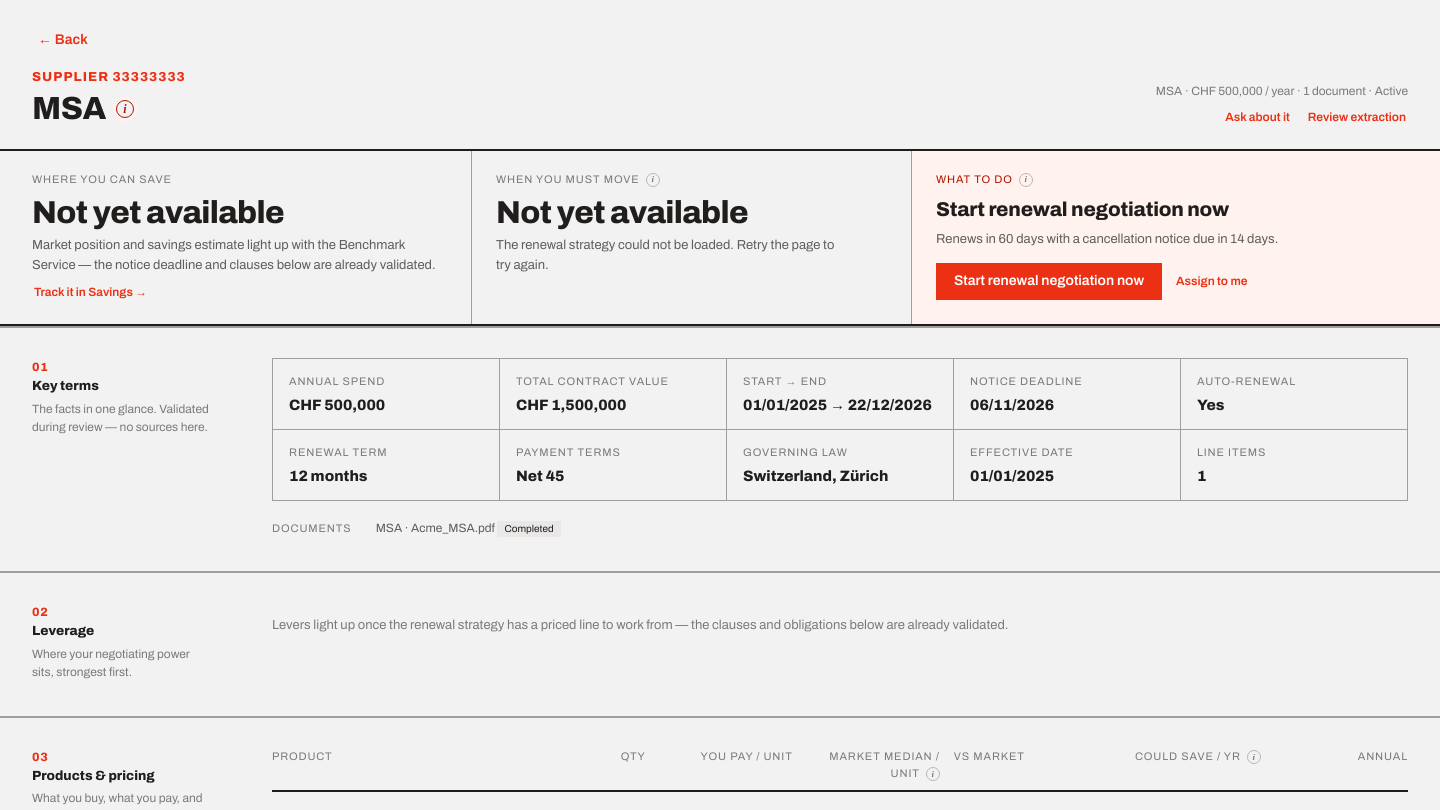
Test: Contract360Route (V2 no tabs, ADR-024 / screens-v2.md #5) › answers band › 'Start negotiation' posts the real action as the signed-in owner, then shows the tracker; steps tick and persist; 'Undo' re-posts Open
Expected: the heading "MSA" is shown, x1=32 y1=91 x2=106 y2=127
Click the button "Start renewal negotiation now": click(1049, 281) x1=936 y1=263 x2=1162 y2=300
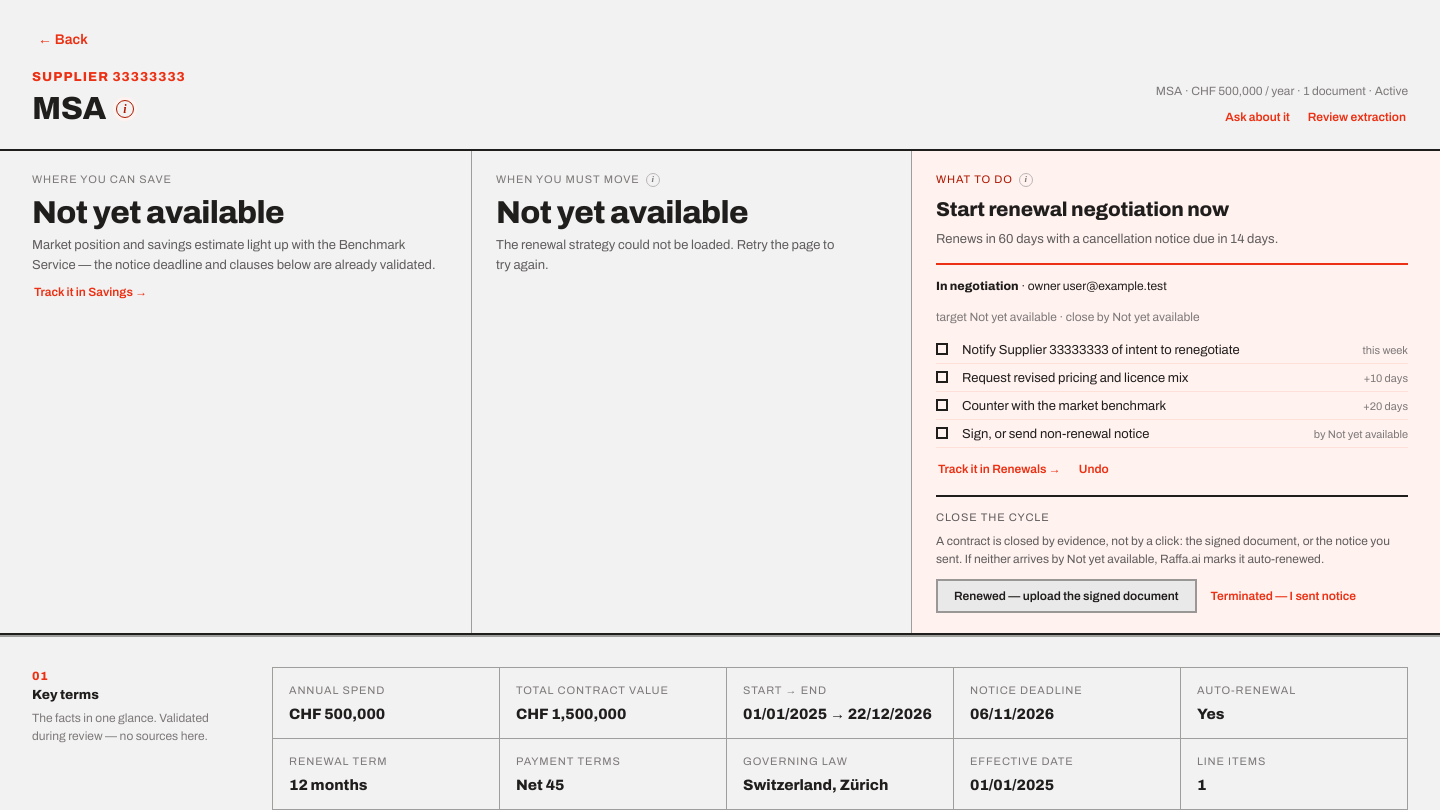
Now the message shows "In negotiation", box x1=936 y1=279 x2=1019 y2=293
Now the message shows "target Not yet available · close by Not yet available", box x1=936 y1=310 x2=1200 y2=324
Now the buttons read "Notify Supplier 33333333 of intent to renegotiatethis week", "Request revised pricing and licence mix+10 days", "Counter with the market benchmark+20 days", "Sign, or send non-renewal noticeby Not yet available", in this order
Click the button "Notify Supplier 33333333 of intent to renegotiate this week": click(1172, 350) x1=936 y1=336 x2=1408 y2=364
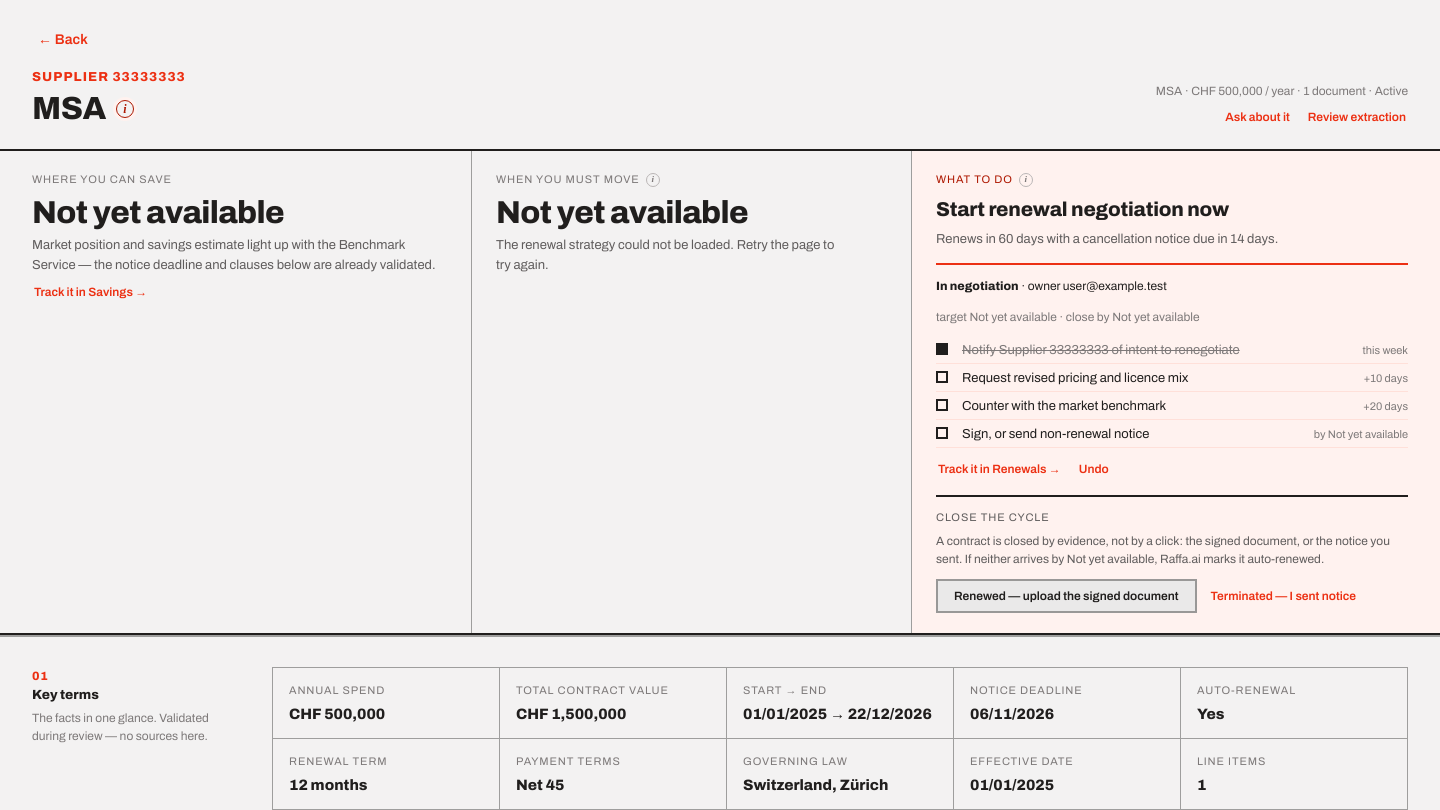
Now the button "Notify Supplier 33333333 of intent to renegotiate this week" is pressed, box x1=936 y1=336 x2=1408 y2=364
Click the button "Undo": click(1094, 469) x1=1077 y1=460 x2=1111 y2=478
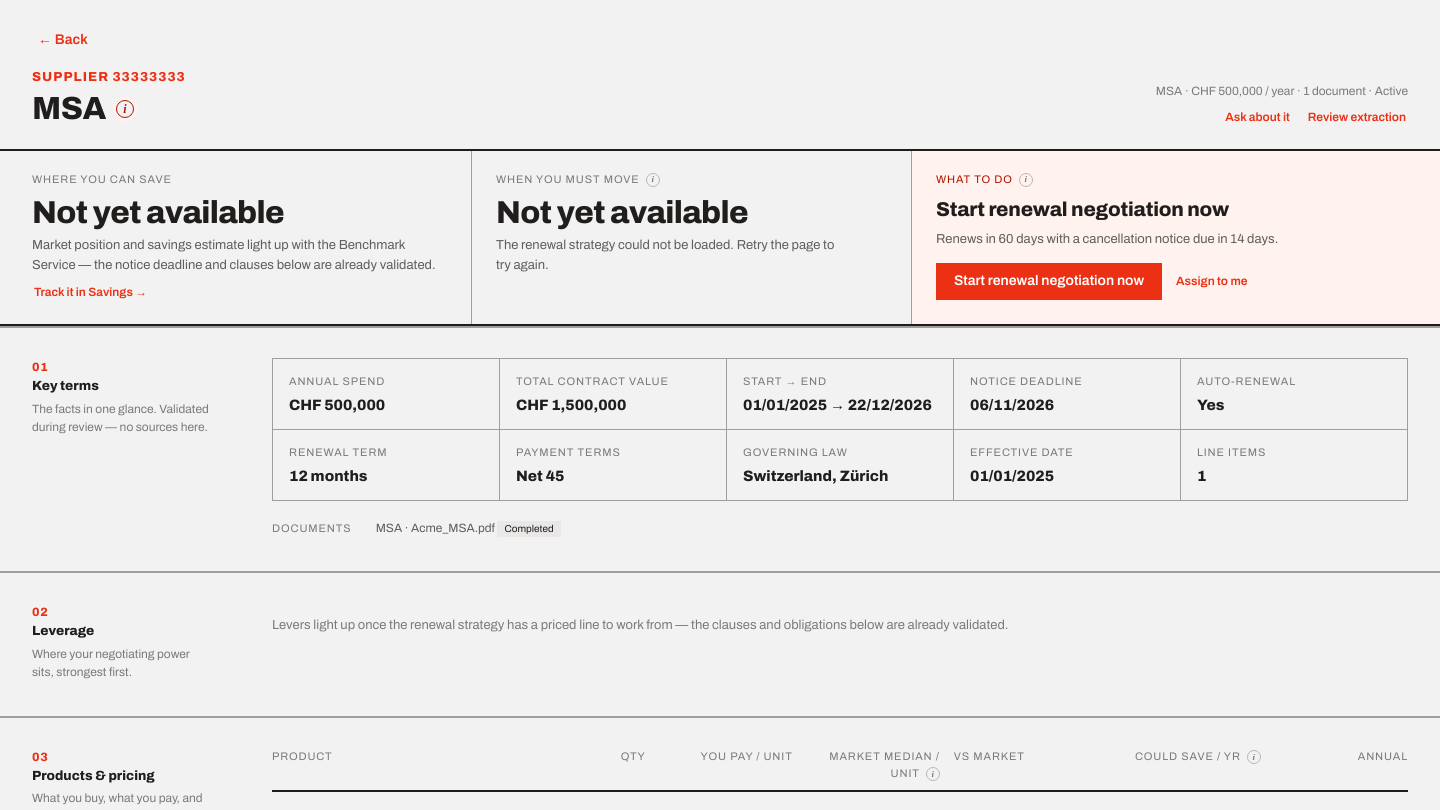
Now the button "Start renewal negotiation now" is shown, box x1=936 y1=263 x2=1162 y2=300
